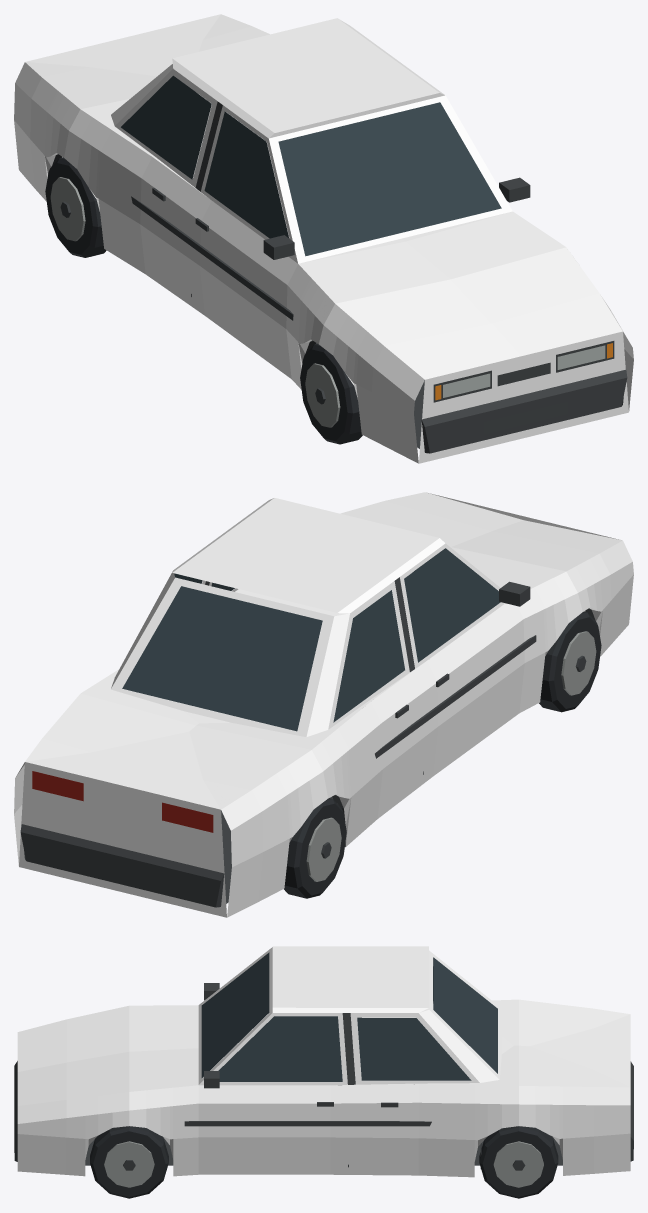
File: kanaya_murakumo.glb
3 views of the same model, one above another, from view 1: azimuth 30°, elevation 25°; view 2: azimuth 150°, elevation 25°; view 3: azimuth 270°, elevation 25° (orthographic). The views are drawn at different scales.
Parts seen in each view (by area): view 1: kanaya_murakumo; view 2: kanaya_murakumo; view 3: kanaya_murakumo.
Boxes of the visible parts, x1,y1,x2,y2 form: kanaya_murakumo: (14,14,633,463); kanaya_murakumo: (14,492,633,917); kanaya_murakumo: (14,946,633,1198).
Size of the model in its own units: 1.77 by 1.47 by 4.71.
Materials: 8 (1 with a texture image).
